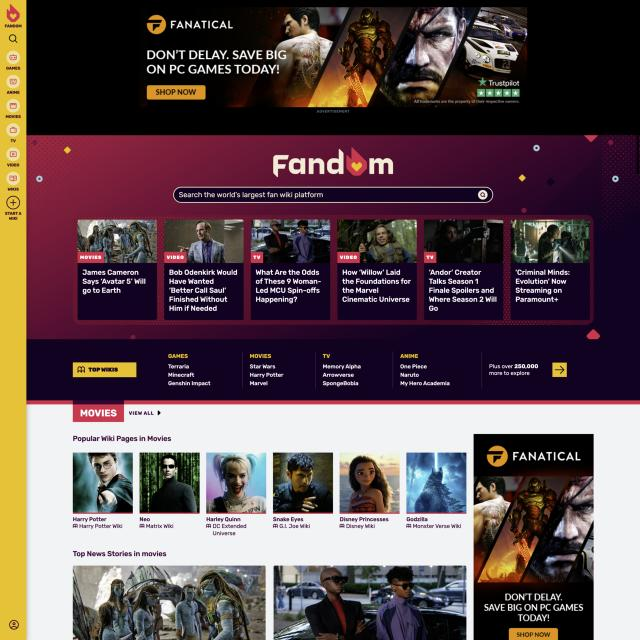input: (172, 186, 493, 203)
logo: (272, 147, 394, 178), (3, 2, 24, 28)
navigation: (1, 50, 25, 194)
